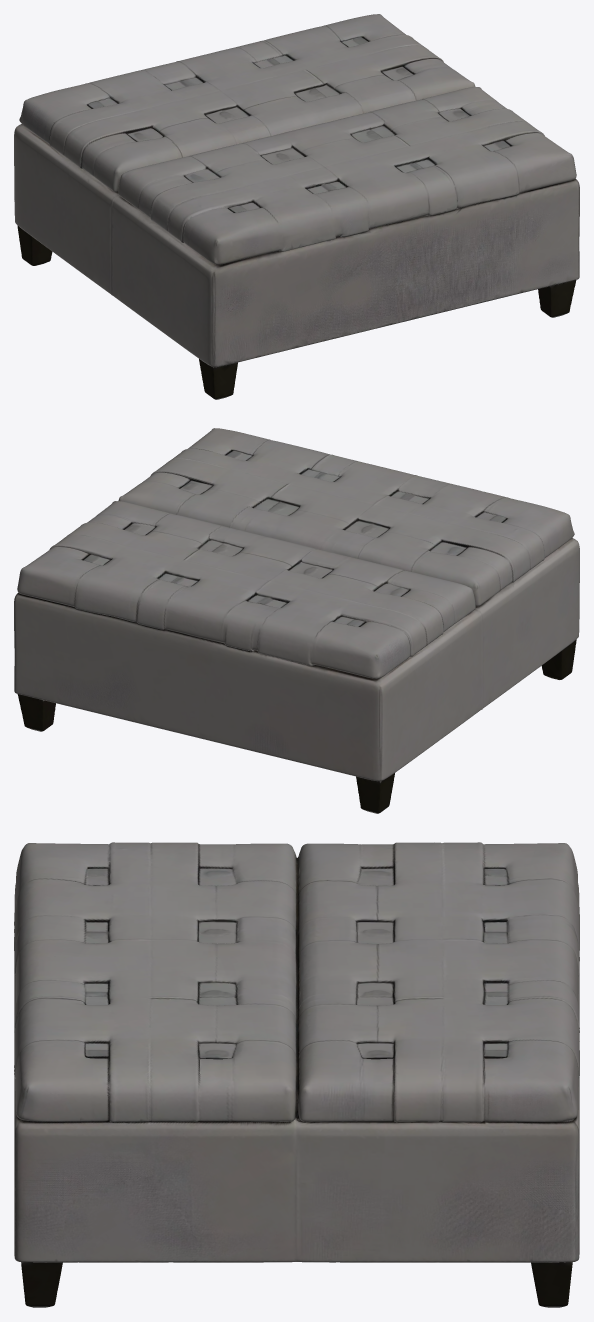
File: c06-stylized.glb
The picture shows the model from 3 angles, top to bottom: view 1: azimuth 30°, elevation 25°; view 2: azimuth 150°, elevation 25°; view 3: azimuth 270°, elevation 25°; orthographic projection. The views are drawn at different scales.
Parts seen in each view (by area): view 1: tripo_node_4ec72be5-d62e-4001-a9c7-b24333ecc372; view 2: tripo_node_4ec72be5-d62e-4001-a9c7-b24333ecc372; view 3: tripo_node_4ec72be5-d62e-4001-a9c7-b24333ecc372.
Boxes of the visible parts, <box> form: tripo_node_4ec72be5-d62e-4001-a9c7-b24333ecc372: <box>14,14,579,399</box>; tripo_node_4ec72be5-d62e-4001-a9c7-b24333ecc372: <box>14,428,579,813</box>; tripo_node_4ec72be5-d62e-4001-a9c7-b24333ecc372: <box>14,842,579,1307</box>.
Bounding box in the file's own units: 1 × 0.4295 × 0.94.
1 material, 1 textured.
